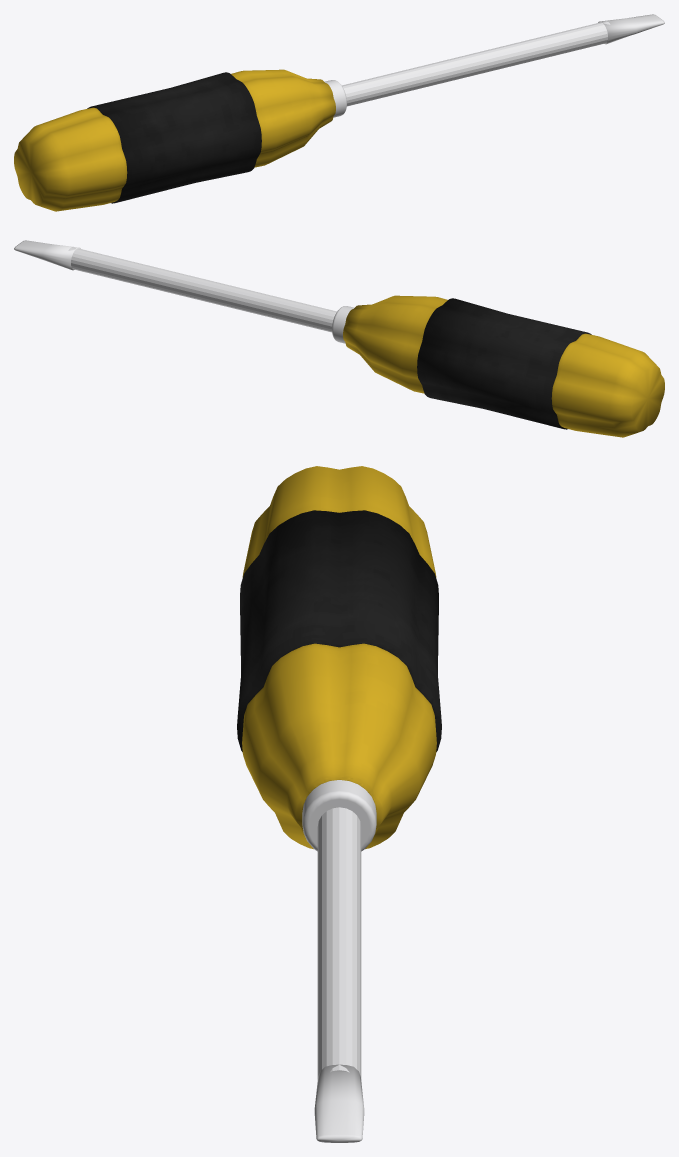
The model's file is flat-yellow.glb.
The picture shows the model from 3 angles, top to bottom: view 1: azimuth 30°, elevation 25°; view 2: azimuth 150°, elevation 25°; view 3: azimuth 270°, elevation 25°; orthographic projection. The views are drawn at different scales.
Parts seen in each view (by area): view 1: plastic_primary, rubber_grip_black, chrome_tool; view 2: plastic_primary, rubber_grip_black, chrome_tool; view 3: plastic_primary, rubber_grip_black, chrome_tool.
Boxes of the visible parts, x1,y1,x2,y2 form: plastic_primary: [14, 69, 335, 211]; rubber_grip_black: [87, 72, 261, 203]; chrome_tool: [324, 14, 664, 117]; plastic_primary: [343, 295, 664, 437]; rubber_grip_black: [417, 298, 591, 429]; chrome_tool: [14, 240, 354, 343]; plastic_primary: [242, 466, 436, 849]; rubber_grip_black: [237, 510, 441, 751]; chrome_tool: [302, 780, 376, 1142].
Size of the model in its own units: 0.2266 by 0.0306 by 0.032.
Materials: 3 (2 with a texture image).
